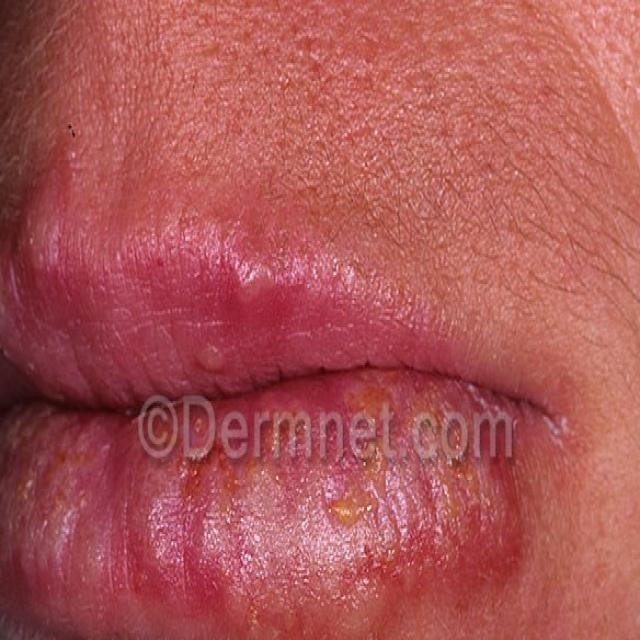Viral Infections: (151, 453, 533, 640), (183, 181, 360, 367), (0, 401, 128, 636), (0, 194, 98, 336)
